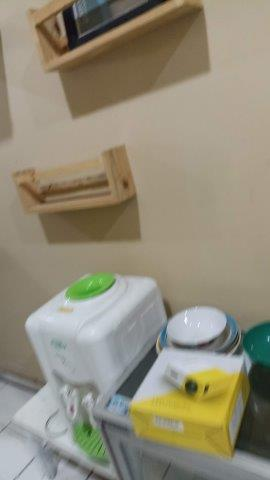kardus: (129, 348, 250, 458)
